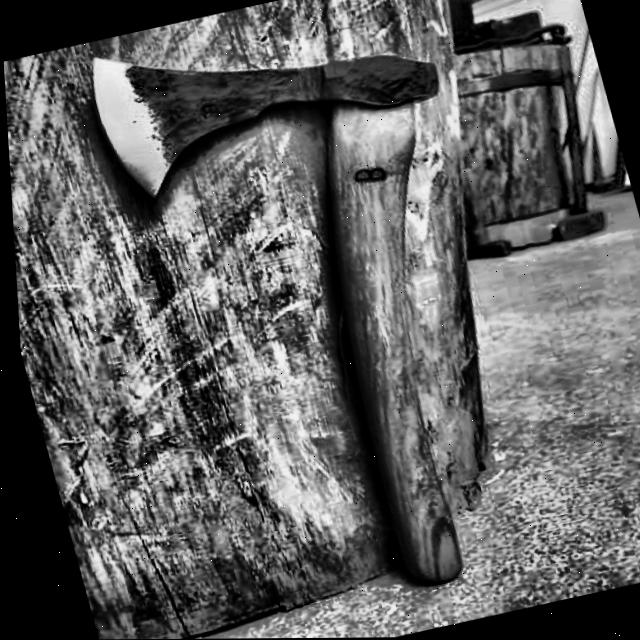kapak: (76, 48, 478, 593)
